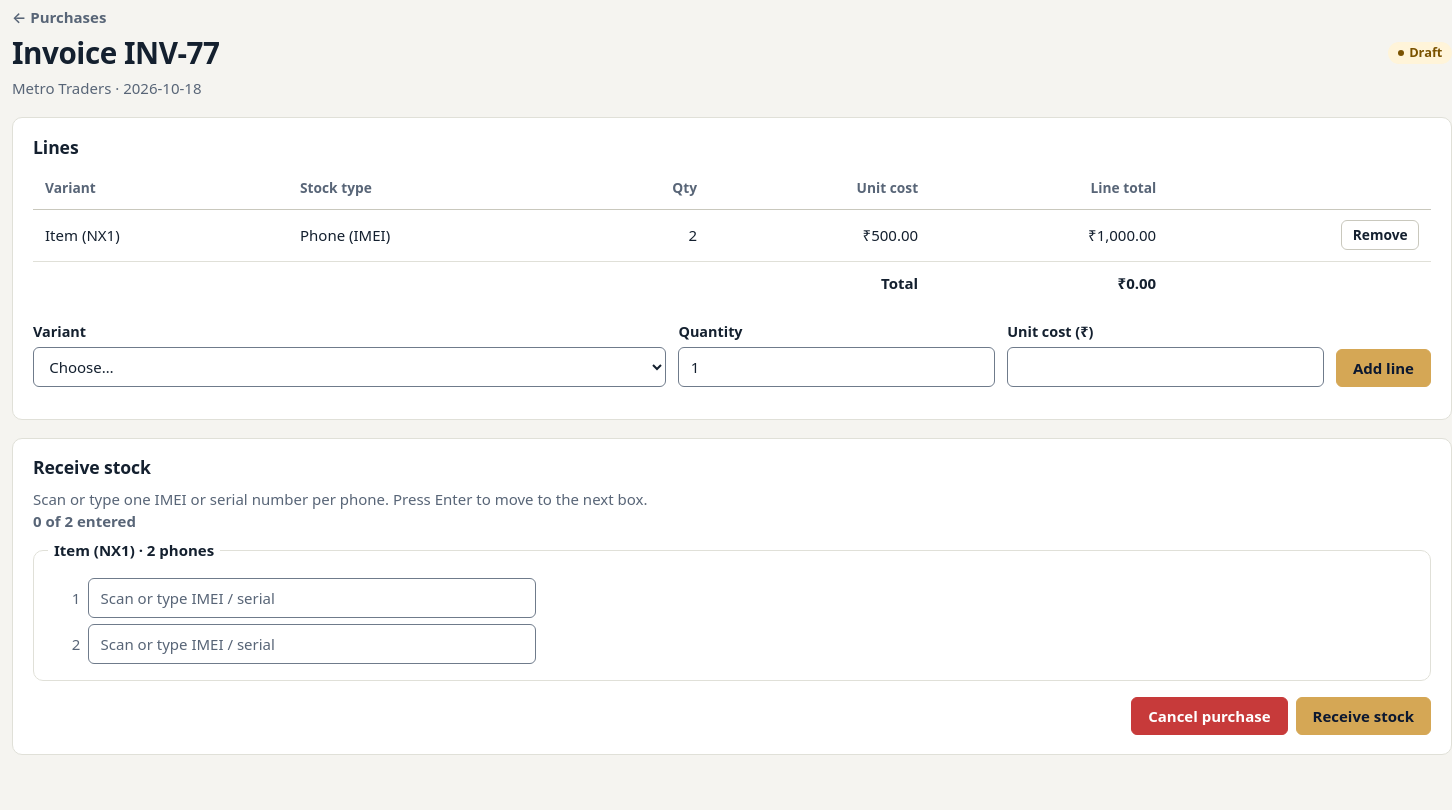
Test: PurchaseDetailPage stale or finalised records › shows an error when removing a line changes no rows
The width and height of the screenshot is (1452, 810).
Click the button with aria-label "Remove line NX1" at (1380, 235), box [1341, 220, 1419, 250]
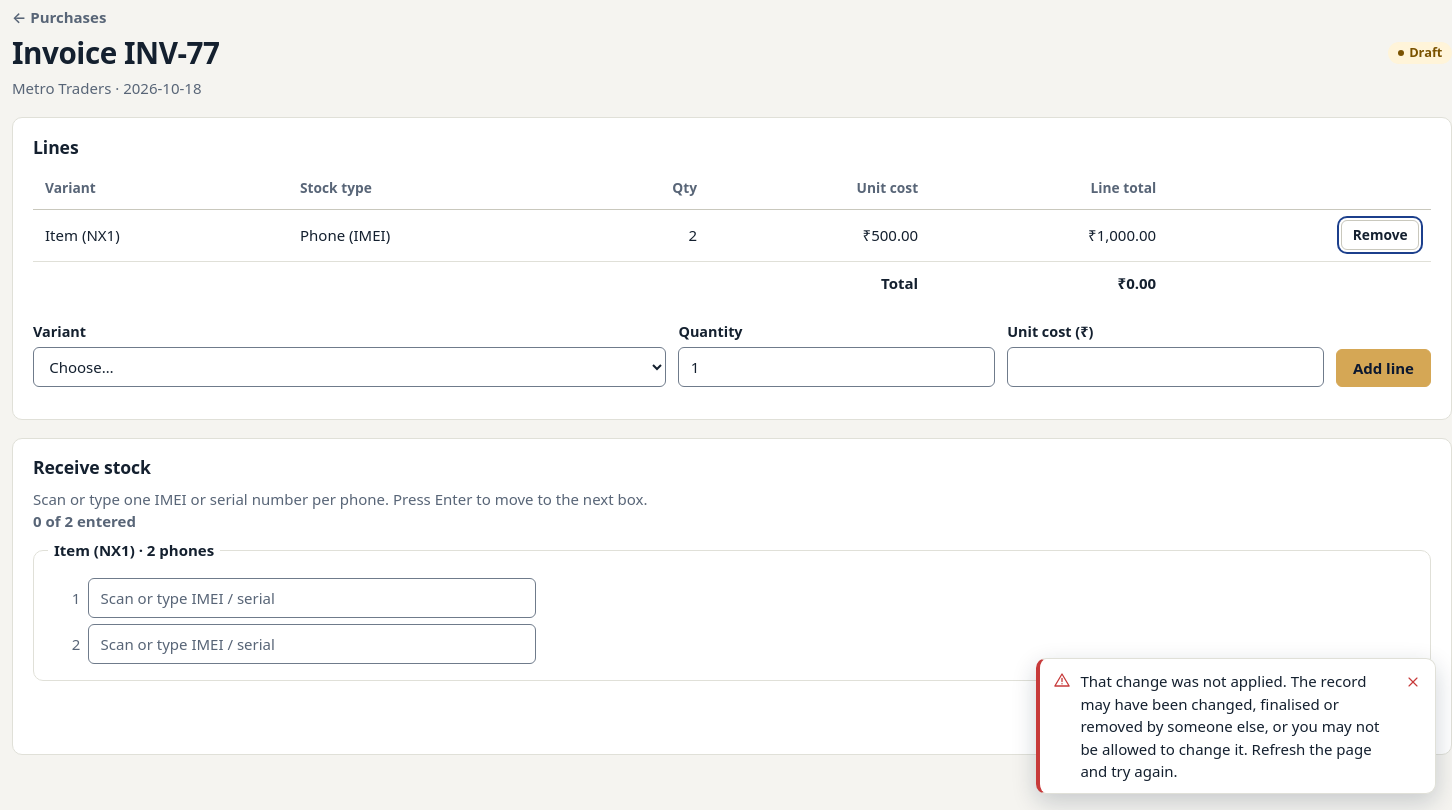
Expected: the text "That change was not applied. The record may have been changed, finalised or removed by someone else, or you may not be a" is shown, [1080, 671, 1379, 781]
